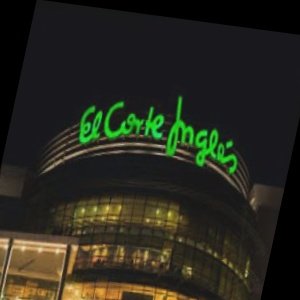corte_ingles: (214, 74, 292, 163)
